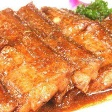hongshaodaiyu: (1, 4, 112, 112)
